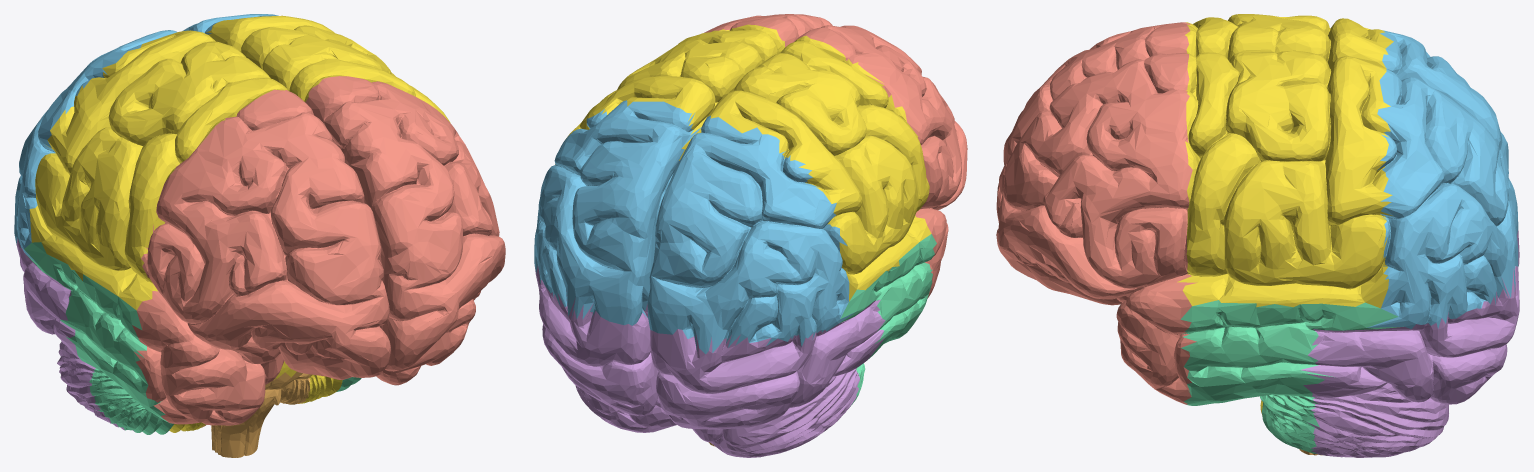
File: brain_segmented.glb
3 views of the same model, side by side, from view 1: azimuth 30°, elevation 25°; view 2: azimuth 150°, elevation 25°; view 3: azimuth 270°, elevation 25° (orthographic). The views are drawn at different scales.
Visible parts, largest first — view 1: frontal, parietal, temporal, occipital, cerebellum, brainstem; view 2: occipital, parietal, cerebellum, frontal, temporal; view 3: parietal, frontal, occipital, cerebellum, temporal.
Part boxes in pixels (x1,y1,x2,y2): frontal: (132,76,505,425); parietal: (29,15,450,432); temporal: (24,242,361,434); occipital: (14,14,278,262); cerebellum: (16,238,134,431); brainstem: (201,371,312,457); occipital: (534,100,854,354); parietal: (555,24,931,301); cerebellum: (534,266,885,457); frontal: (704,14,967,298); temporal: (840,234,936,406); parietal: (1177,14,1393,414); frontal: (996,22,1197,404); occipital: (1367,30,1518,329); cerebellum: (1300,230,1519,457); temporal: (1181,300,1403,453).
Bounding box in the file's own units: 1.38 × 1.58 × 1.85.
